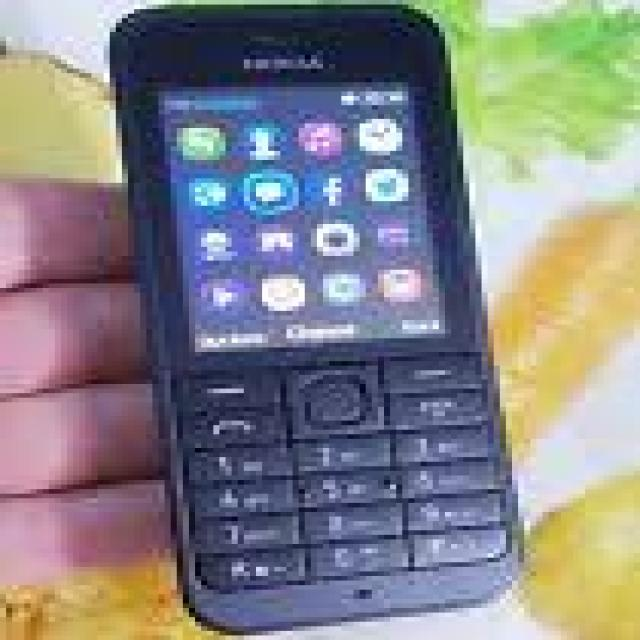mobile phone: (104, 0, 524, 631)
